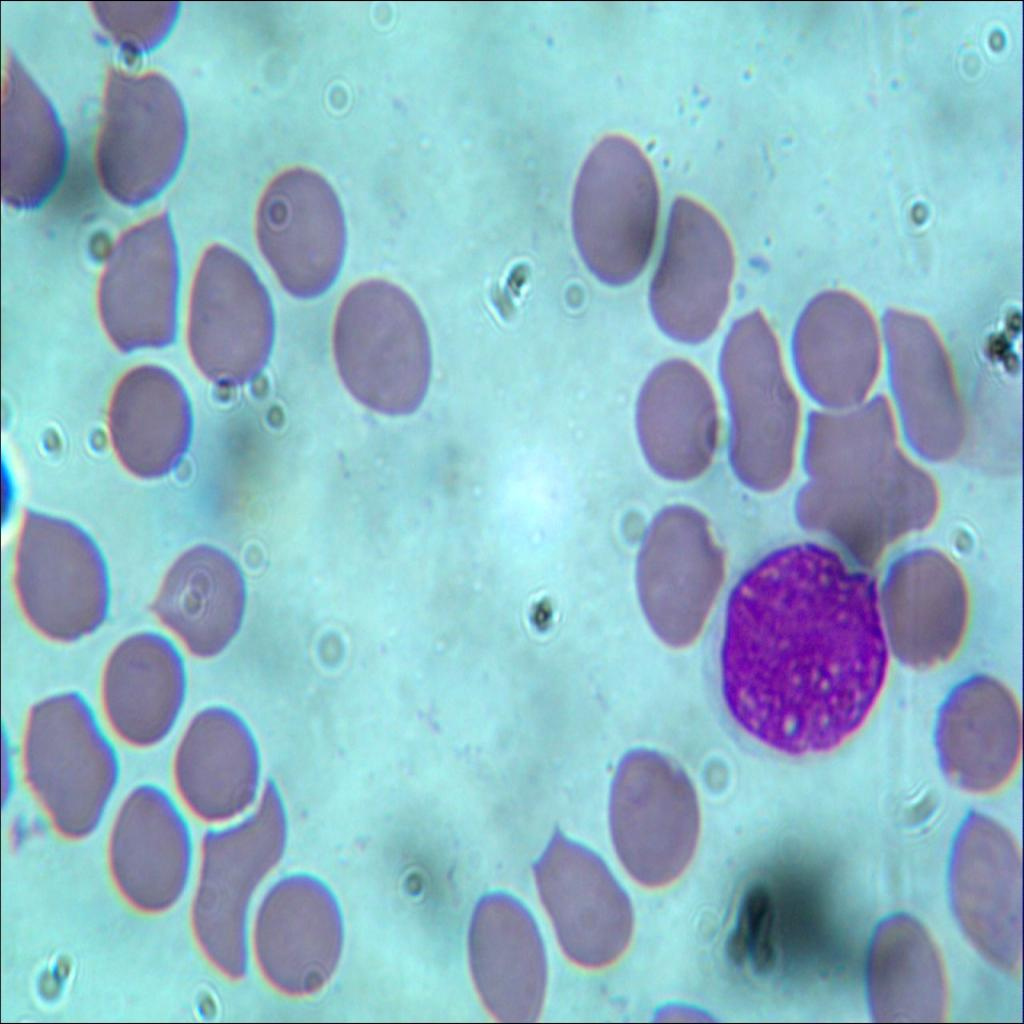Eritrosit: (191, 782, 283, 977), (711, 307, 804, 494), (18, 677, 118, 850), (624, 497, 729, 649), (534, 825, 638, 978), (878, 299, 971, 470), (328, 280, 438, 424), (566, 128, 662, 292), (86, 64, 192, 208), (638, 198, 742, 344), (84, 202, 181, 355), (6, 495, 109, 639), (871, 534, 975, 672), (941, 808, 1023, 982), (606, 744, 699, 892), (253, 162, 350, 302), (924, 660, 1021, 794), (108, 354, 198, 494), (98, 621, 188, 757), (186, 246, 270, 390), (458, 895, 552, 1023), (784, 290, 881, 408), (251, 872, 344, 994), (0, 51, 66, 218), (790, 454, 884, 564), (856, 909, 946, 1023), (638, 357, 720, 482), (158, 542, 240, 665), (106, 785, 188, 908), (174, 708, 259, 808), (858, 440, 943, 536), (794, 402, 892, 482)
Limfoblast: (716, 538, 886, 748)
